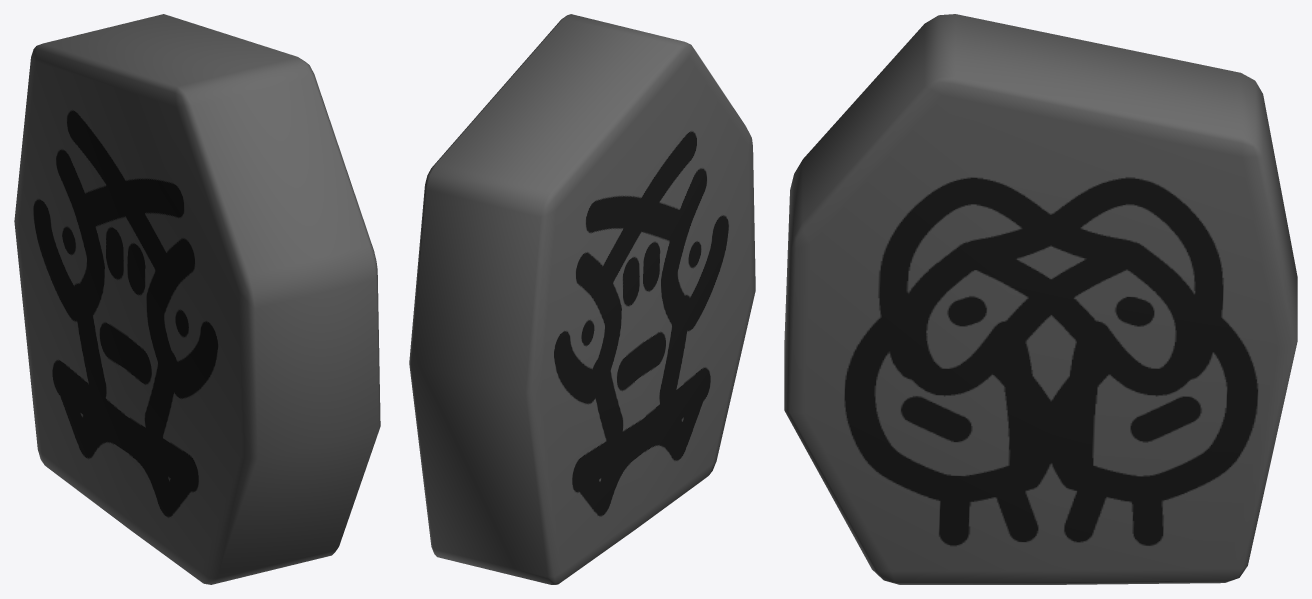
File: stone 2.fbx
The picture shows the model from 3 angles, left to right: view 1: azimuth 30°, elevation 25°; view 2: azimuth 150°, elevation 25°; view 3: azimuth 270°, elevation 25°; orthographic projection. The views are drawn at different scales.
Parts seen in each view (by area): view 1: stone 2; view 2: stone 2; view 3: stone 2.
Part boxes in pixels (x1,y1,x2,y2): stone 2: (14,14,380,584); stone 2: (409,14,755,584); stone 2: (784,14,1297,584).
Bounding box in the file's own units: 85.36 × 291 × 266.
